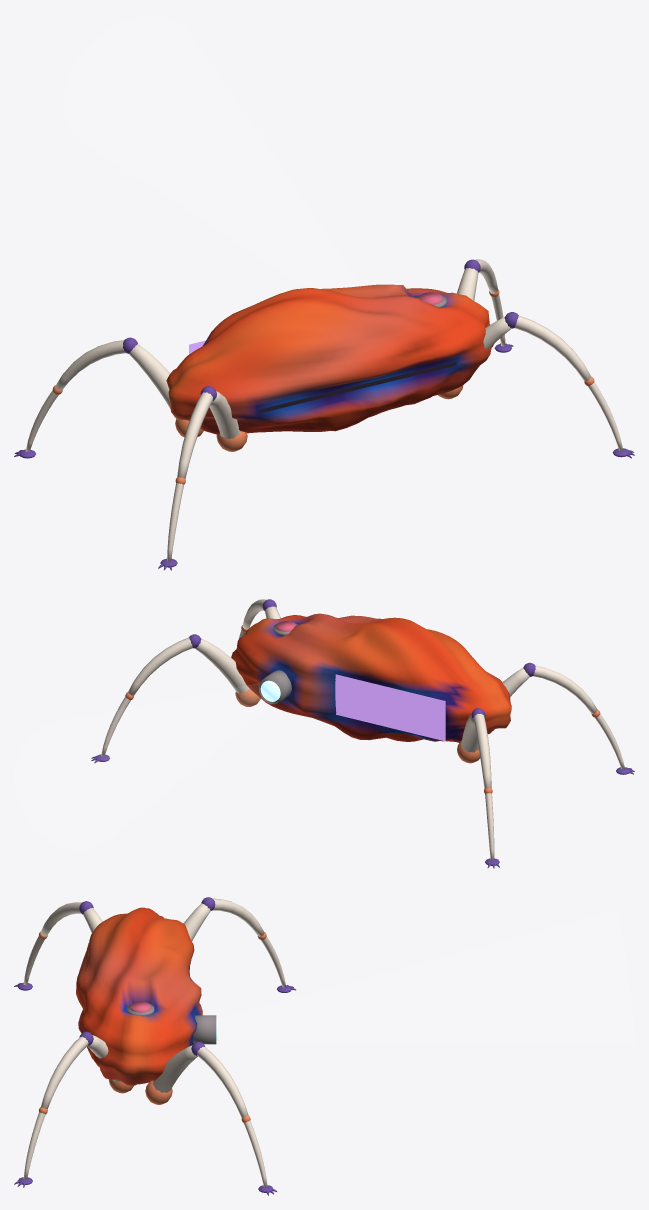
File: sticker-bot.glb
The picture shows the model from 3 angles, top to bottom: view 1: azimuth 30°, elevation 25°; view 2: azimuth 150°, elevation 25°; view 3: azimuth 270°, elevation 25°; orthographic projection. The views are drawn at different scales.
Parts seen in each view (by area): view 1: Pod, Leg_2_Seg2, Leg_1_Seg2, Leg_3_Seg2, Leg_3_Seg1, SlotMouth, Leg_1_Seg1; view 2: Pod, BackScreen, Leg_4_Seg1, Leg_4_Seg2, Leg_1_Seg2, Leg_3_Seg2, ProjectorBarrel, Leg_3_Seg1, Leg_3_Seg3, Leg_4_Seg3, Leg_1_Seg1; view 3: Pod, Leg_4_Seg2, Leg_4_Seg1, Leg_2_Seg2, Leg_3_Seg2, ProjectorBarrel, Leg_1_Seg2, Leg_3_Seg1, Leg_4_Seg3, Leg_2_Seg3.
Boxes of the visible parts, x1,y1,x2,y2 form: Pod: (166, 284, 494, 434); Leg_2_Seg2: (515, 315, 591, 381); Leg_1_Seg2: (177, 392, 212, 478); Leg_3_Seg2: (55, 340, 126, 390); Leg_3_Seg1: (129, 344, 180, 420); SlotMouth: (258, 361, 456, 413); Leg_1_Seg1: (209, 391, 240, 439); Pod: (231, 613, 511, 742); BackScreen: (335, 674, 445, 741); Leg_4_Seg1: (195, 638, 249, 693); Leg_4_Seg2: (128, 637, 192, 695); Leg_1_Seg2: (533, 665, 597, 713); Leg_3_Seg2: (473, 714, 491, 788); ProjectorBarrel: (258, 670, 291, 704); Leg_3_Seg1: (461, 714, 478, 752); Leg_3_Seg3: (485, 793, 494, 860); Leg_4_Seg3: (101, 696, 130, 756); Leg_1_Seg1: (502, 667, 530, 696); Pod: (76, 907, 202, 1085); Leg_4_Seg2: (196, 1046, 248, 1117); Leg_4_Seg1: (153, 1045, 197, 1092); Leg_2_Seg2: (41, 1036, 88, 1109); Leg_3_Seg2: (213, 898, 264, 936); ProjectorBarrel: (193, 1015, 216, 1044); Leg_1_Seg2: (40, 902, 81, 936); Leg_3_Seg1: (183, 903, 210, 940); Leg_4_Seg3: (244, 1120, 267, 1187); Leg_2_Seg3: (23, 1112, 45, 1179).
Size of the model in its own units: 1.1 by 0.4891 by 1.36.
